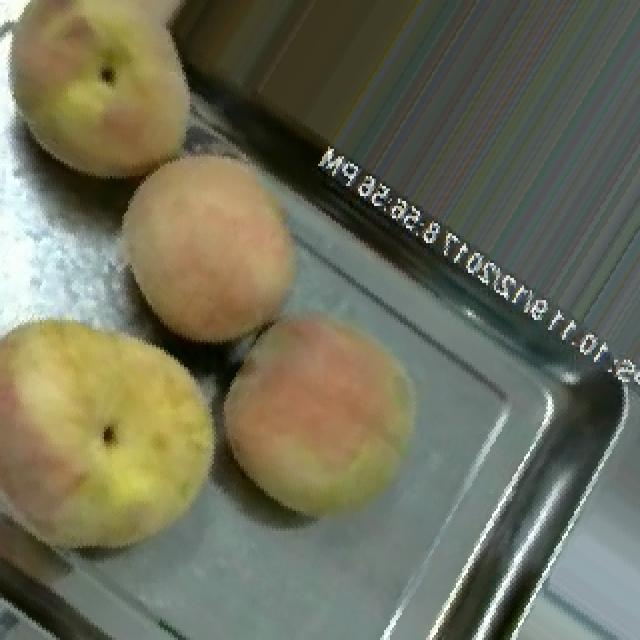Fruit: (0, 283, 254, 593), (190, 280, 454, 551), (86, 112, 332, 374), (0, 0, 238, 211)
